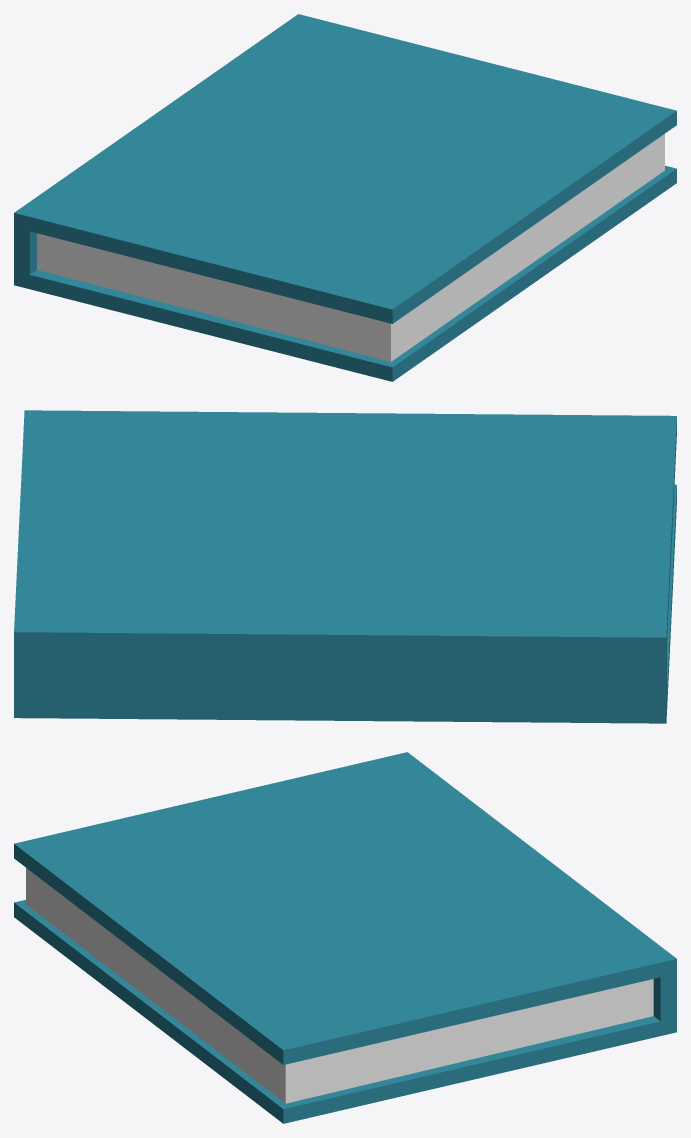
The model's file is Book.fbx.
The picture shows the model from 3 angles, top to bottom: view 1: azimuth 30°, elevation 25°; view 2: azimuth 150°, elevation 25°; view 3: azimuth 270°, elevation 25°; orthographic projection. The views are drawn at different scales.
Parts seen in each view (by area): view 1: BOOK SIDETABLE.000; view 2: BOOK SIDETABLE.000; view 3: BOOK SIDETABLE.000.
Boxes of the visible parts, x1,y1,x2,y2 form: BOOK SIDETABLE.000: (14, 14, 676, 381); BOOK SIDETABLE.000: (14, 410, 676, 723); BOOK SIDETABLE.000: (14, 752, 676, 1123).
Size of the model in its own units: 42.2 by 4.85 by 39.63.
